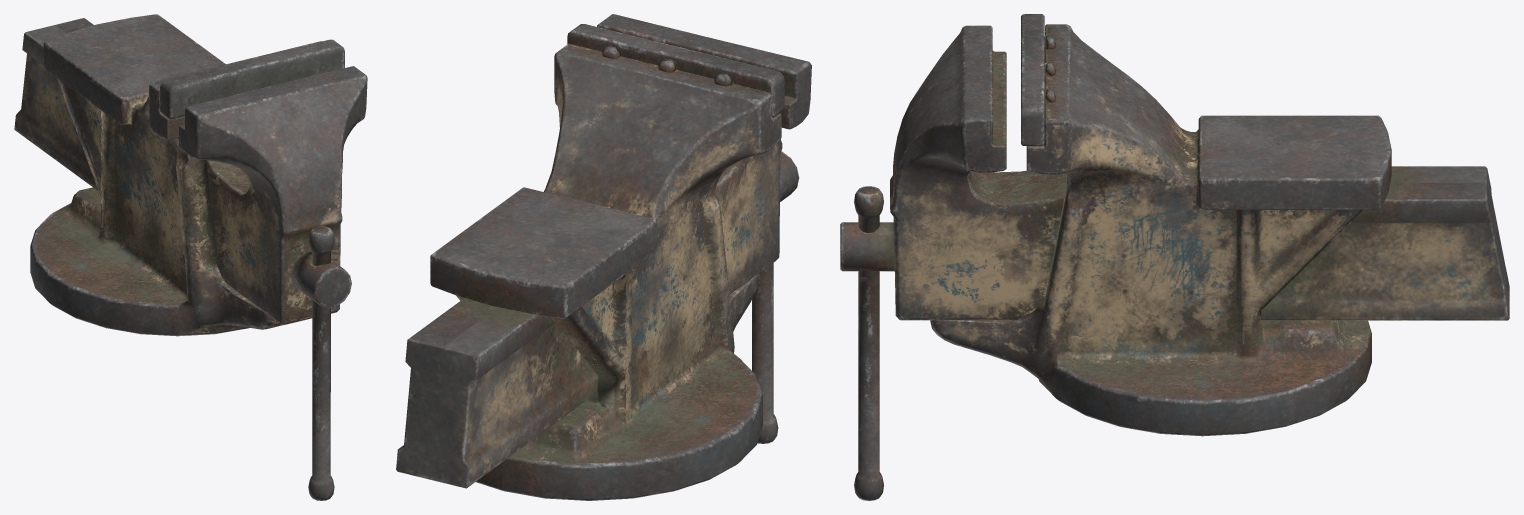
Rendered from vice.fbx.
The picture shows the model from 3 angles, left to right: view 1: azimuth 30°, elevation 25°; view 2: azimuth 150°, elevation 25°; view 3: azimuth 270°, elevation 25°; orthographic projection. The views are drawn at different scales.
Visible parts, largest first — view 1: bench_vice_01__bench_vice_frame, bench_vice_01__bench_vice_clamp, bench_vice_01__bench_vice_bar, bench_vice_01__bench_vice_dial; view 2: bench_vice_01__bench_vice_frame, bench_vice_01__bench_vice_clamp, bench_vice_01__bench_vice_bar, bench_vice_01__bench_vice_dial; view 3: bench_vice_01__bench_vice_frame, bench_vice_01__bench_vice_clamp, bench_vice_01__bench_vice_bar, bench_vice_01__bench_vice_dial.
Part boxes in pixels (x1,y1,x2,y2): bench_vice_01__bench_vice_frame: [30, 14, 344, 336]; bench_vice_01__bench_vice_clamp: [14, 18, 367, 324]; bench_vice_01__bench_vice_bar: [308, 226, 334, 500]; bench_vice_01__bench_vice_dial: [291, 252, 351, 308]; bench_vice_01__bench_vice_frame: [430, 24, 784, 500]; bench_vice_01__bench_vice_clamp: [396, 14, 811, 488]; bench_vice_01__bench_vice_bar: [752, 263, 778, 443]; bench_vice_01__bench_vice_dial: [780, 151, 799, 201]; bench_vice_01__bench_vice_frame: [930, 14, 1391, 436]; bench_vice_01__bench_vice_clamp: [890, 25, 1509, 320]; bench_vice_01__bench_vice_bar: [854, 186, 883, 500]; bench_vice_01__bench_vice_dial: [840, 222, 894, 271].
Bounding box in the file's own units: 0.2005 × 0.2851 × 0.3957.
